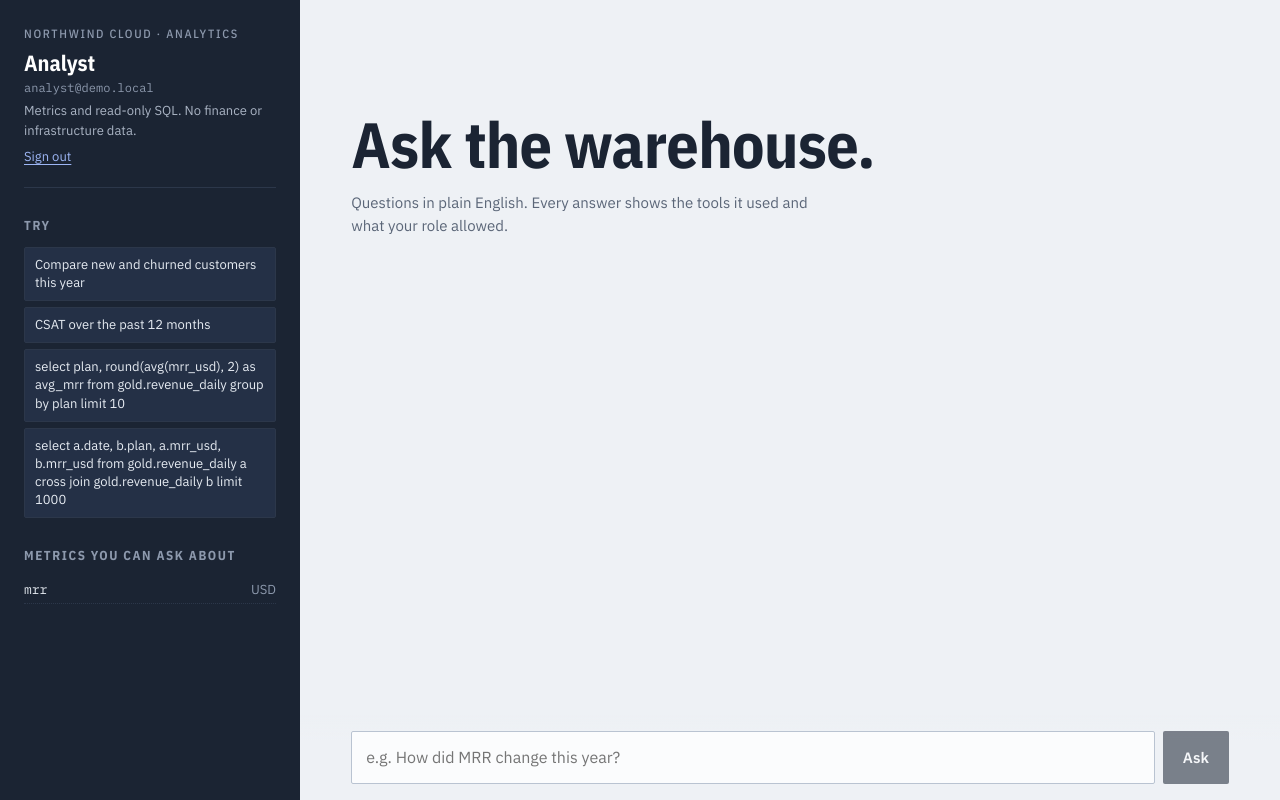
Test: asking a question shows the question and the answer
Type "What was MRR last month?" into the field named "Your question".
click(753, 758); type("What was MRR last month?")  # box 351,731 -> 1155,784
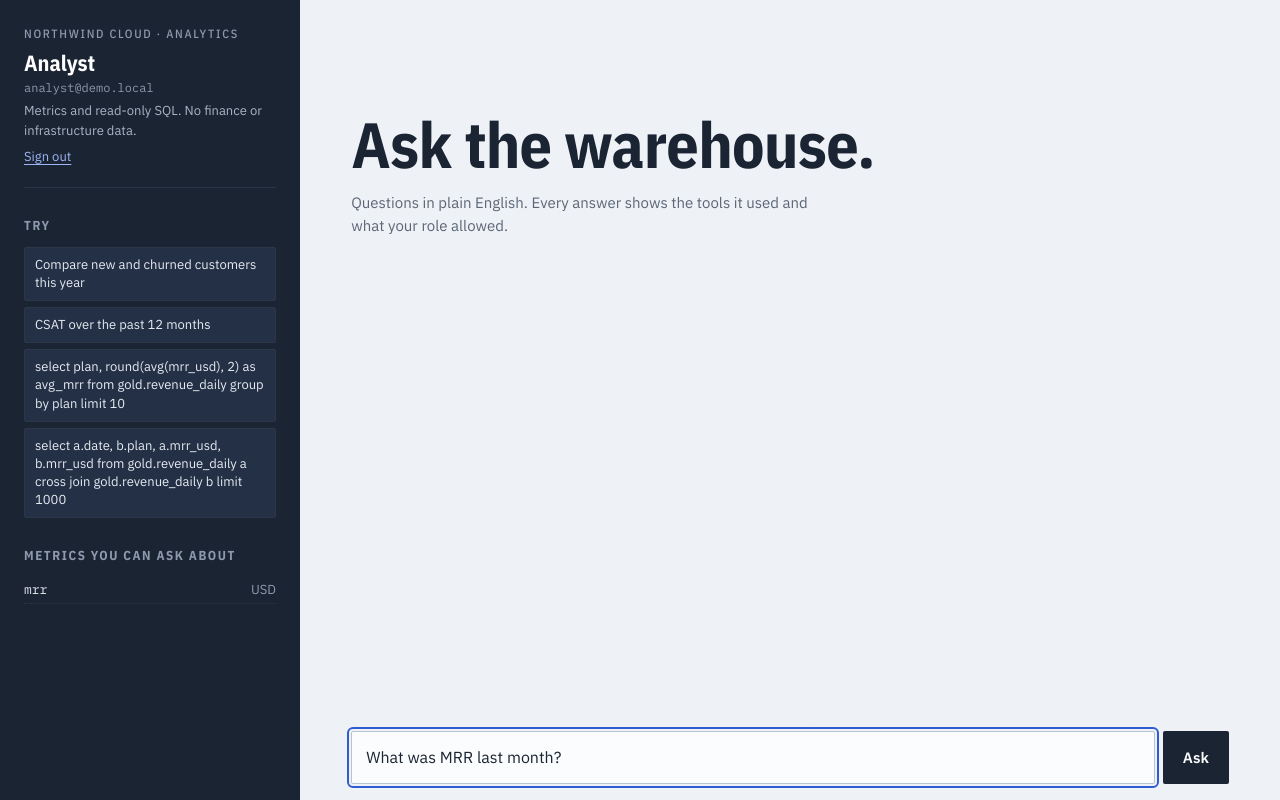
Click the button "Ask".
click(1196, 758)  # box 1163,731 -> 1229,784
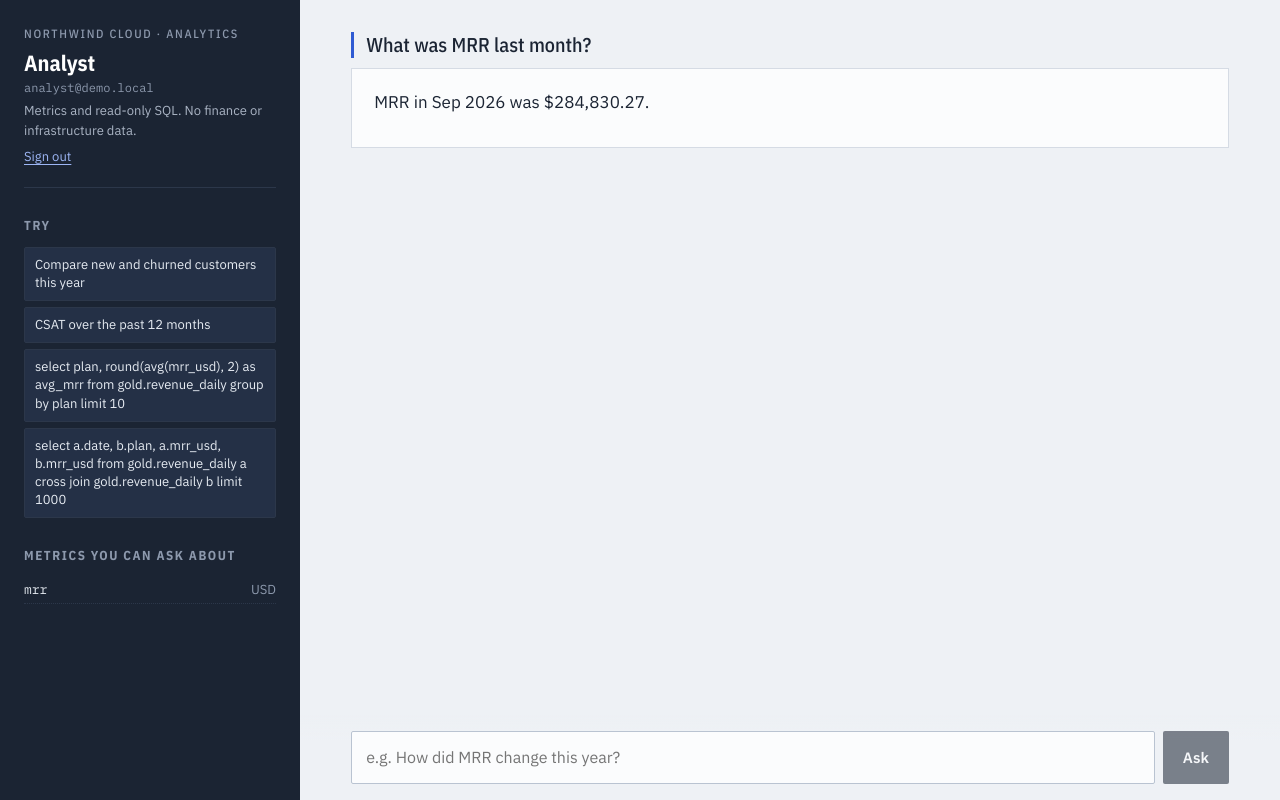
Expected: the text "MRR in Sep 2026 was $284,830.27." is shown, 374,91 -> 650,113
Expected: the text "What was MRR last month?" is shown, 351,32 -> 1229,58
Expected: the field named "Your question" is empty, 351,731 -> 1155,784
